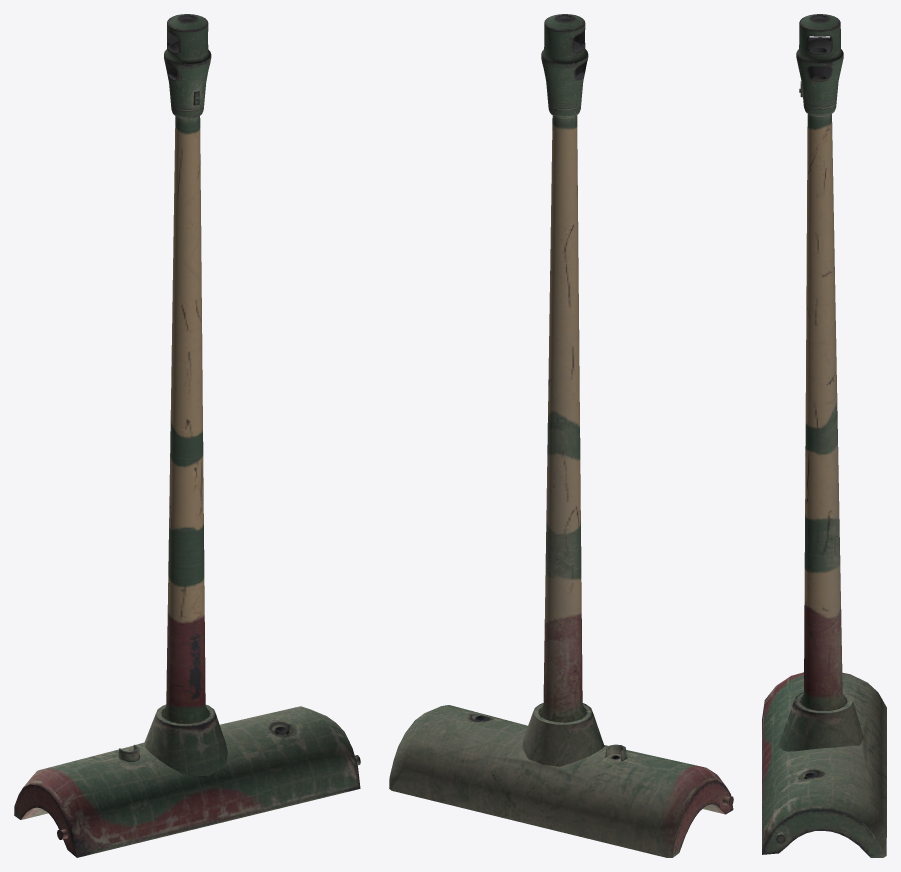
File: Gun_01.glb
3 renders of one model, left to right at view 1: azimuth 30°, elevation 25°; view 2: azimuth 150°, elevation 25°; view 3: azimuth 270°, elevation 25°, orthographic. The views are drawn at different scales.
Parts seen in each view (by area): view 1: set_0_group_0; view 2: set_0_group_0; view 3: set_0_group_0.
Boxes of the visible parts, x1,y1,x2,y2 form: set_0_group_0: [14, 14, 360, 857]; set_0_group_0: [389, 14, 733, 857]; set_0_group_0: [762, 14, 886, 857].
Size of the model in its own units: 1.76 by 4.42 by 0.6498.
Materials: 1 (1 with a texture image).
